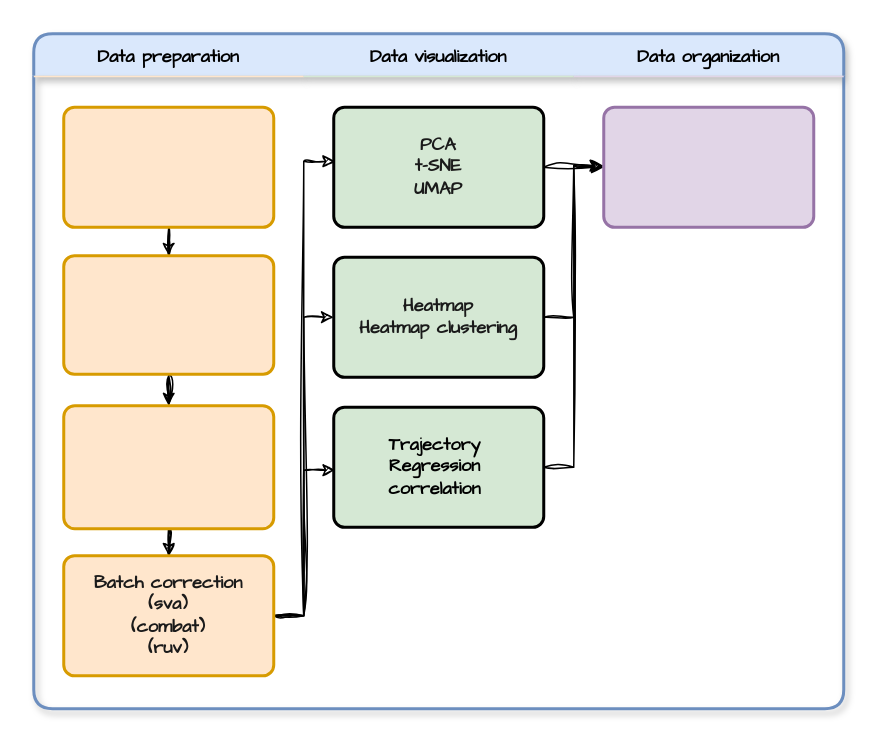
Image size: 879x746. Some labels were removed from this diagram. The centre of each missing label's shape, as x and y in pixels:
"Data acquisition" goes at [168,166].
"Data normalization (TMM)" goes at [168,467].
"Data preprocessing" goes at [168,314].
"Powerpoint presentation" goes at [708,166].
